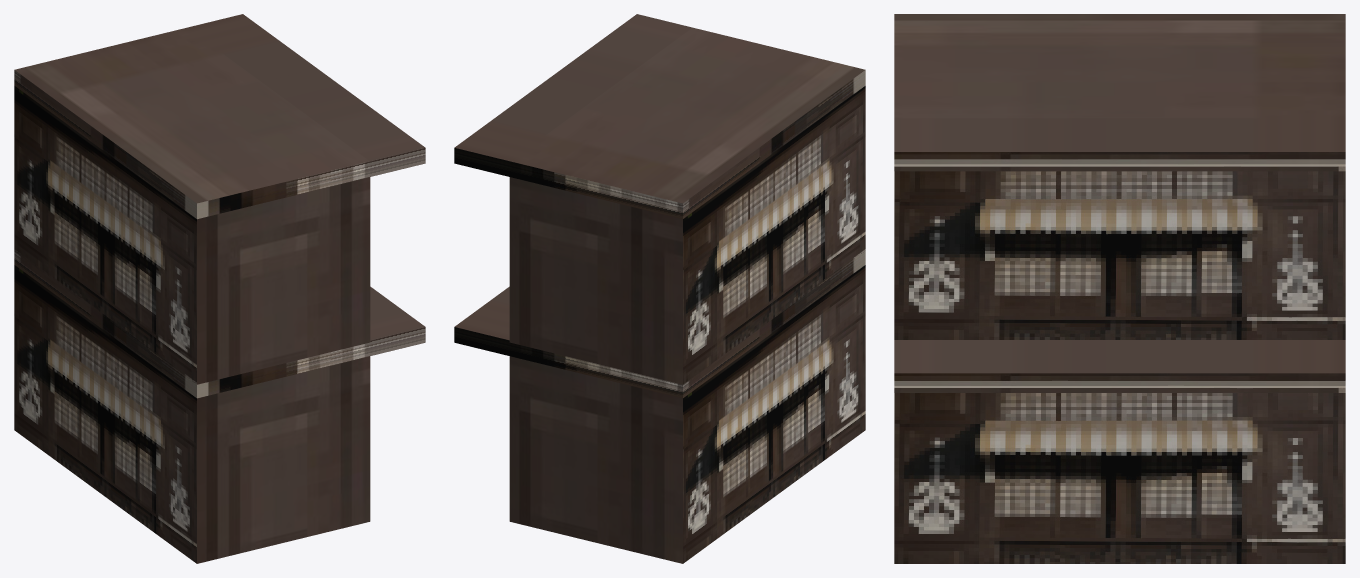
File: house 18.fbx
3 views of the same model, side by side, from view 1: azimuth 30°, elevation 25°; view 2: azimuth 150°, elevation 25°; view 3: azimuth 270°, elevation 25° (orthographic). The views are drawn at different scales.
Visible parts, largest first — view 1: Cube.001; view 2: Cube.001; view 3: Cube.001.
Boxes of the visible parts, box(x1,y1,x2,y2) form: Cube.001: box(14, 14, 425, 563); Cube.001: box(454, 14, 865, 563); Cube.001: box(894, 14, 1345, 563).
Bounding box in the file's own units: 1631 × 2457 × 2257.
